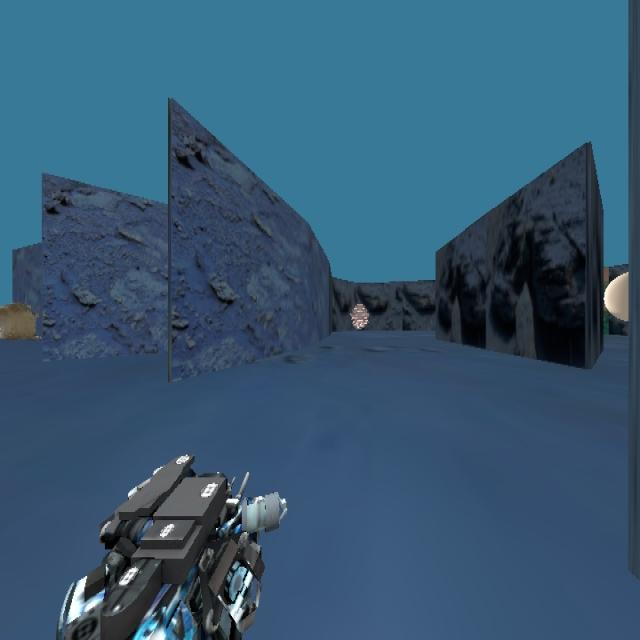Circle: (592, 244, 636, 332)
Ice: (0, 266, 48, 366)
Mushroom: (349, 301, 369, 331)
